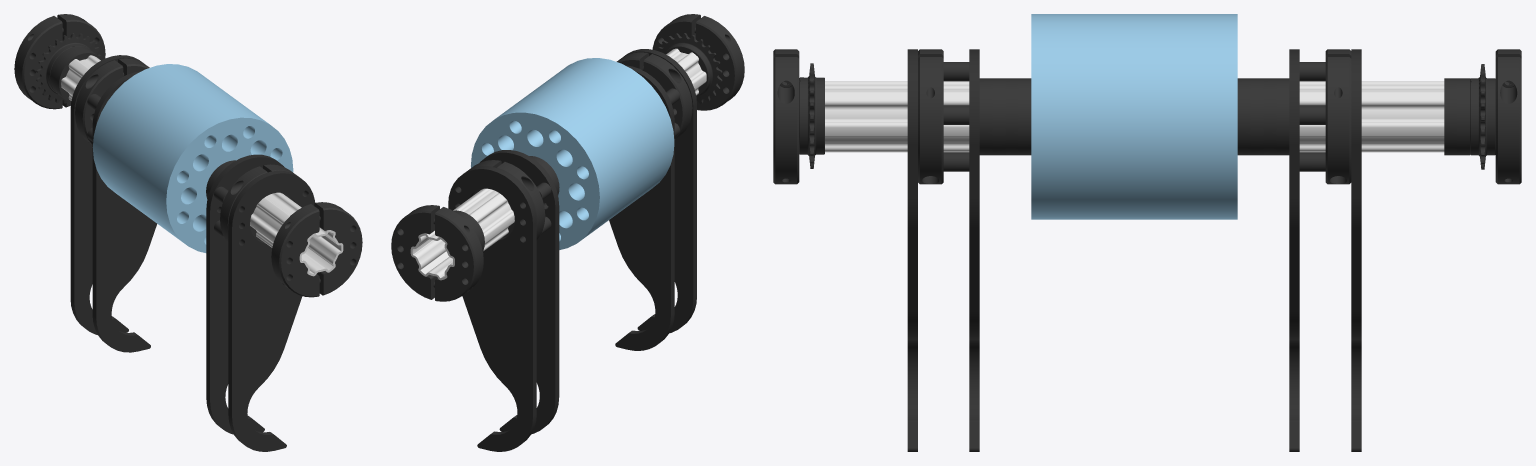
3 renders of one model, left to right at view 1: azimuth 30°, elevation 25°; view 2: azimuth 150°, elevation 25°; view 3: azimuth 270°, elevation 25°, orthographic. The views are drawn at different scales.
Visible parts, largest first — view 1: Part 1 (×5), MAXSpline Clamping Shaft Collar (×4), MAXSpline (14.5" L), 24t Aluminum Sprocket (#25, MAXSpline Bore, Double Hub), MAXSpline Spacer (1/2" L, 1-1/2" OD, Acetal); view 2: Part 1 (×5), MAXSpline Clamping Shaft Collar (×4), MAXSpline (14.5" L), 24t Aluminum Sprocket (#25, MAXSpline Bore, Double Hub); view 3: Part 1 (×5), MAXSpline (14.5" L), MAXSpline Clamping Shaft Collar (×4), MAXSpline Spacer (1/2" L, 1-1/2" OD, Acetal) (×5), 24t Aluminum Sprocket (#25, MAXSpline Bore, Double Hub) (×2).
Part boxes in pixels (x1,y1,x2,y2): Part 1 (×5): [70, 55, 314, 451]; MAXSpline Clamping Shaft Collar (×4): [14, 14, 362, 297]; MAXSpline (14.5" L): [61, 55, 343, 276]; 24t Aluminum Sprocket (#25, MAXSpline Bore, Double Hub): [36, 33, 101, 103]; MAXSpline Spacer (1/2" L, 1-1/2" OD, Acetal): [50, 46, 102, 102]; Part 1 (×5): [448, 49, 696, 451]; MAXSpline Clamping Shaft Collar (×4): [391, 14, 744, 301]; MAXSpline (14.5" L): [410, 48, 706, 280]; 24t Aluminum Sprocket (#25, MAXSpline Bore, Double Hub): [658, 33, 722, 103]; Part 1 (×5): [907, 14, 1361, 451]; MAXSpline (14.5" L): [825, 81, 1444, 152]; MAXSpline Clamping Shaft Collar (×4): [773, 49, 1521, 184]; MAXSpline Spacer (1/2" L, 1-1/2" OD, Acetal) (×5): [979, 78, 1469, 155]; 24t Aluminum Sprocket (#25, MAXSpline Bore, Double Hub) (×2): [799, 63, 1495, 169].
Bounding box in the file's own units: 0.1016 × 0.2285 × 0.3683.
